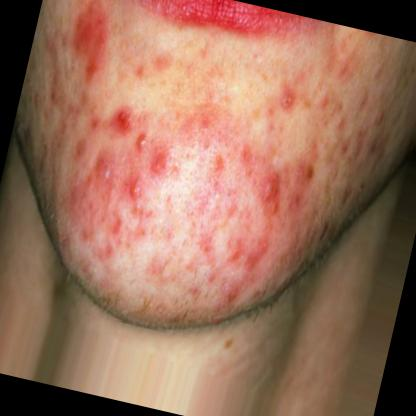Acne: (88, 150, 119, 192), (120, 171, 148, 208), (132, 123, 154, 156)
